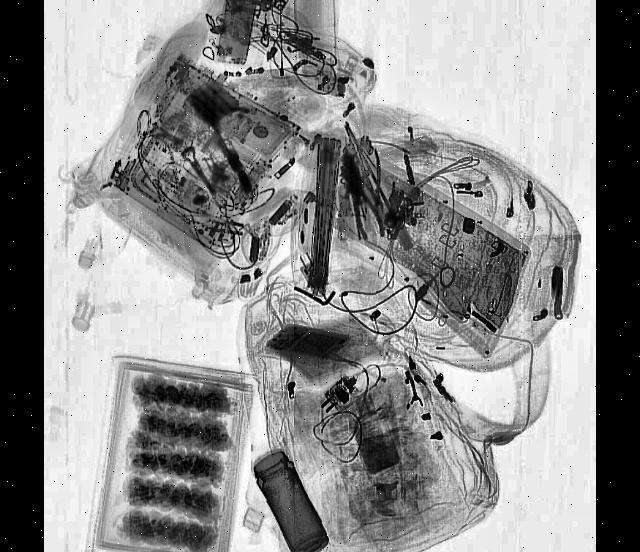Pliers: (342, 164, 388, 248), (354, 146, 394, 218)
